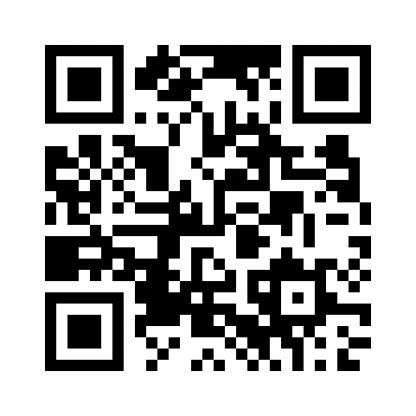qr: (41, 43, 379, 377)
